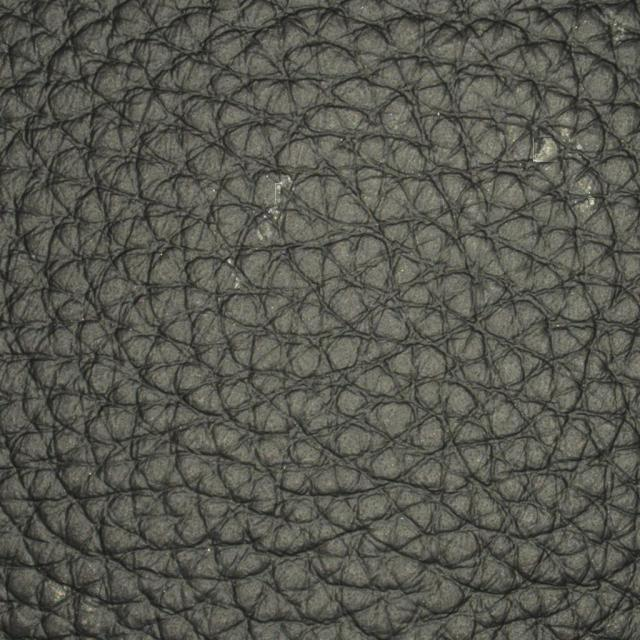Rotten surface: (204, 142, 342, 286), (483, 92, 625, 231)
